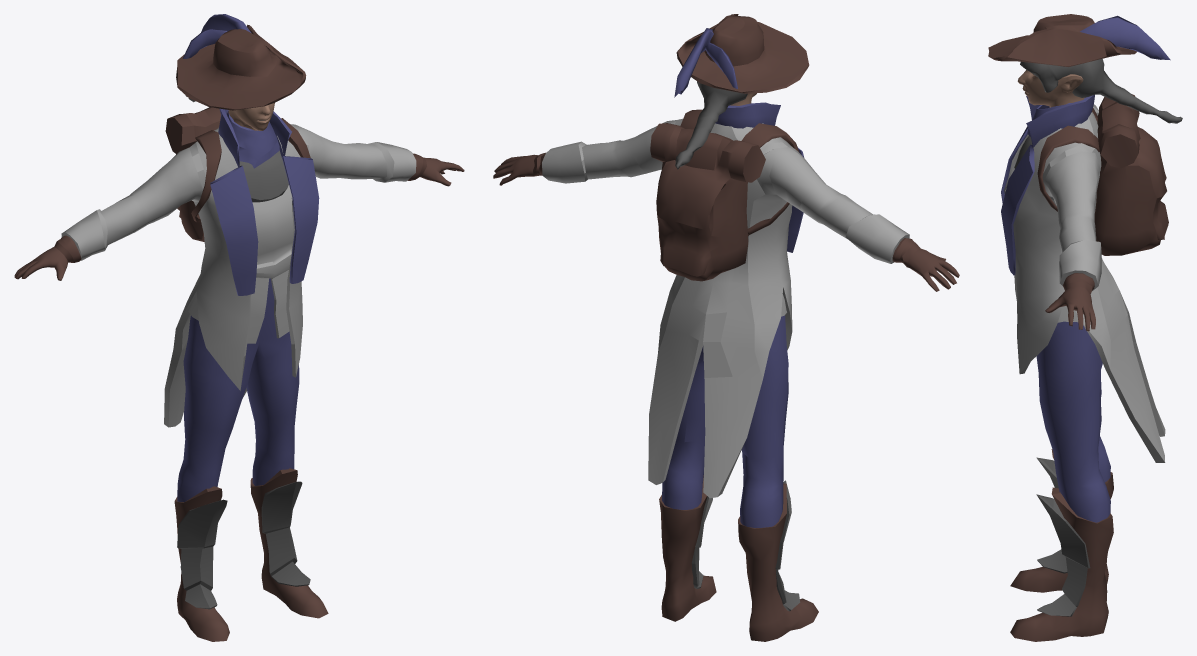
Rendered from body_low.fbx.
The picture shows the model from 3 angles, left to right: view 1: azimuth 30°, elevation 25°; view 2: azimuth 150°, elevation 25°; view 3: azimuth 270°, elevation 25°; orthographic projection. The views are drawn at different scales.
Visible parts, largest first — view 1: quad_face2; view 2: quad_face2; view 3: quad_face2.
Part boxes in pixels (x1,y1,x2,y2): quad_face2: (14,14,464,641); quad_face2: (493,14,959,641); quad_face2: (988,14,1182,641).
Size of the model in its own units: 926 by 1146 by 340.
